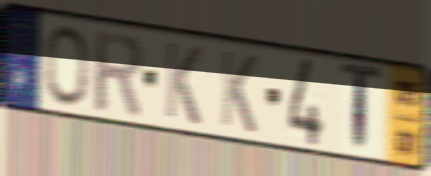4: (287, 55, 325, 151)
K: (163, 38, 204, 129), (219, 46, 260, 137)
O: (43, 23, 91, 110)
R: (90, 26, 145, 118)
T: (338, 59, 385, 159)
